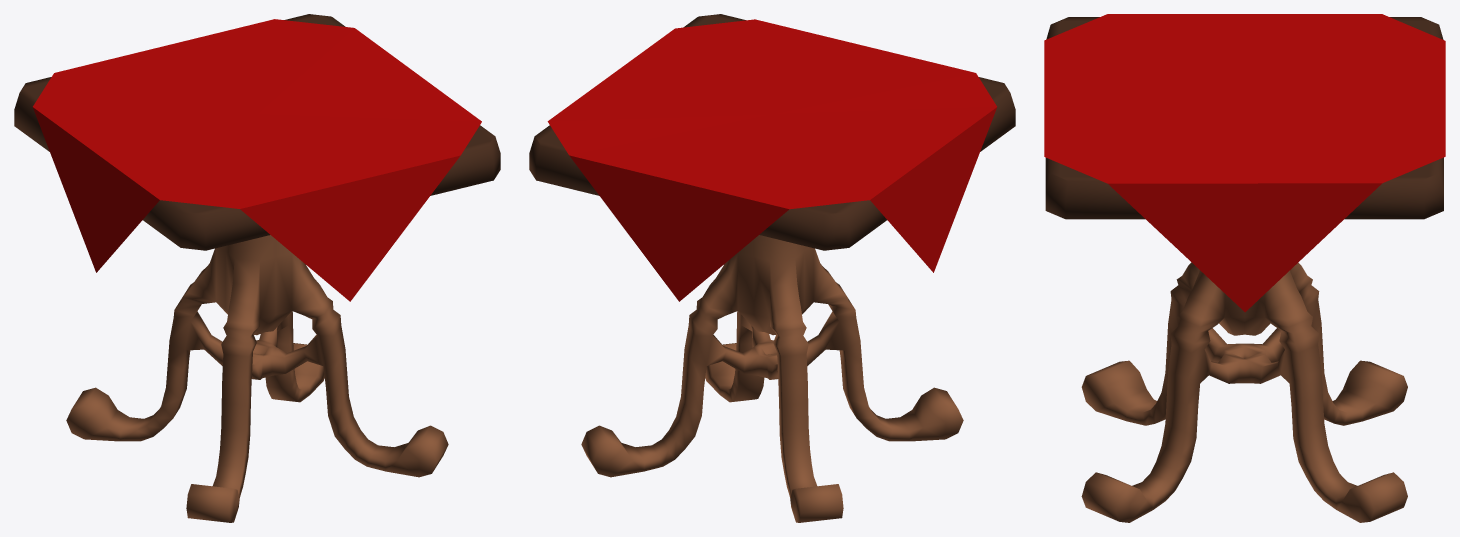
The model's file is Table.fbx.
The picture shows the model from 3 angles, left to right: view 1: azimuth 30°, elevation 25°; view 2: azimuth 150°, elevation 25°; view 3: azimuth 270°, elevation 25°; orthographic projection. The views are drawn at different scales.
Visible parts, largest first — view 1: Plane.001, Cube; view 2: Plane.001, Cube; view 3: Plane.001, Cube.
Part boxes in pixels (x1,y1,x2,y2): Plane.001: (33,19,481,301); Cube: (14,14,500,522); Plane.001: (547,19,996,301); Cube: (529,14,1015,522); Plane.001: (1044,14,1445,312); Cube: (1045,17,1443,522).
Size of the model in its own units: 101 by 100 by 101.
